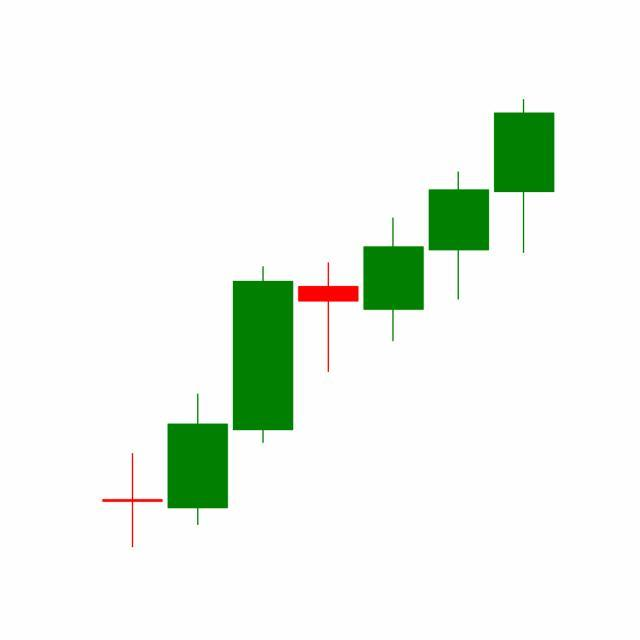Three Outside Up-Down: (295, 169, 492, 375)
